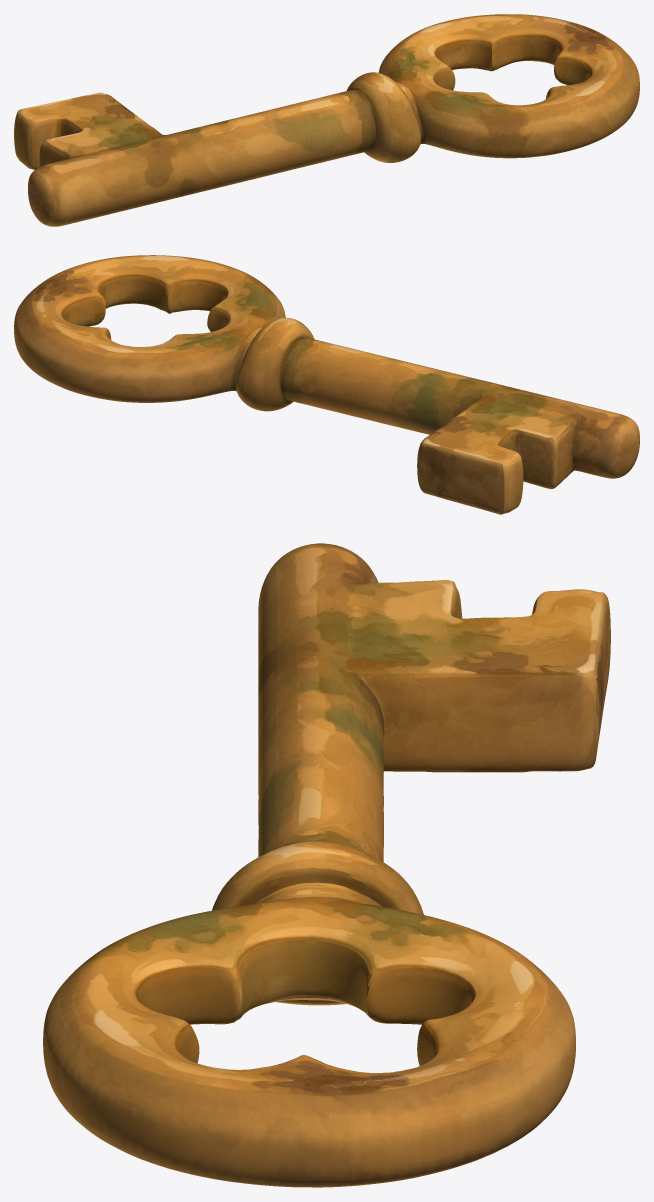
The model's file is key.glb.
The picture shows the model from 3 angles, top to bottom: view 1: azimuth 30°, elevation 25°; view 2: azimuth 150°, elevation 25°; view 3: azimuth 270°, elevation 25°; orthographic projection. The views are drawn at different scales.
Visible parts, largest first — view 1: Mesh0; view 2: Mesh0; view 3: Mesh0.
Part boxes in pixels (box(x1,y1,x2,y2)): Mesh0: box(14, 14, 639, 226); Mesh0: box(14, 255, 639, 514); Mesh0: box(43, 543, 610, 1187).
Bounding box in the file's own units: 1.9 × 0.2456 × 0.8001.
1 material, 1 textured.
